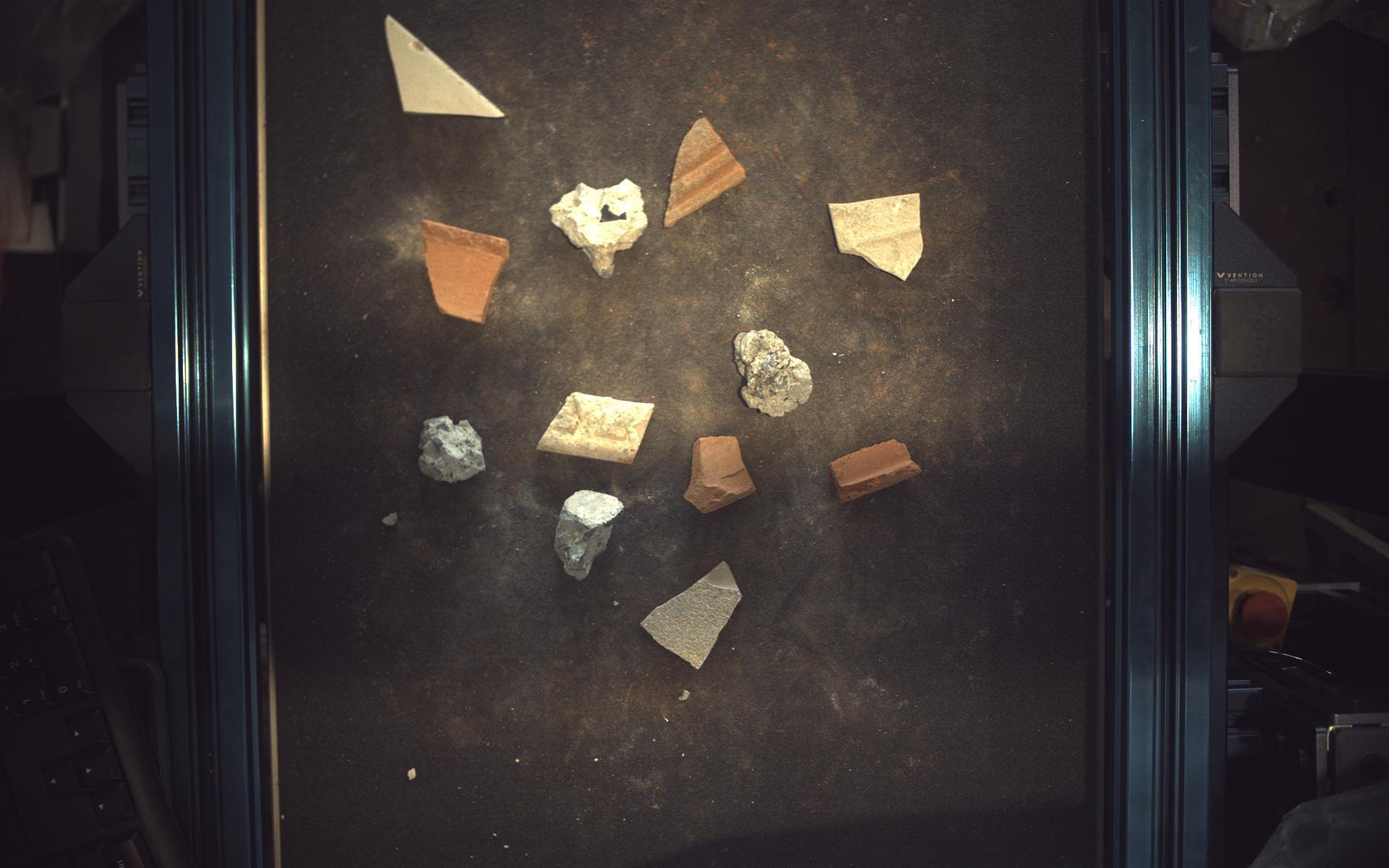brick: (421, 219, 510, 323), (665, 116, 747, 226), (831, 440, 922, 504), (684, 437, 757, 514)
concrete: (551, 178, 648, 277), (735, 330, 814, 417), (555, 490, 624, 581), (419, 416, 485, 483)
tile: (386, 15, 505, 116), (643, 562, 743, 670), (538, 393, 655, 464), (831, 192, 925, 280)
